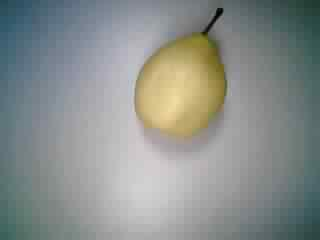pear: (127, 4, 241, 150)
